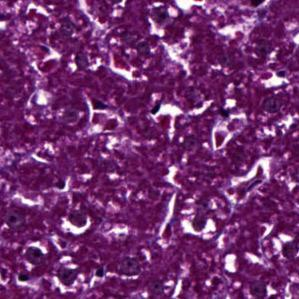inflammation: (48, 261, 83, 295), (185, 211, 216, 242), (64, 205, 93, 232), (275, 234, 299, 263)
